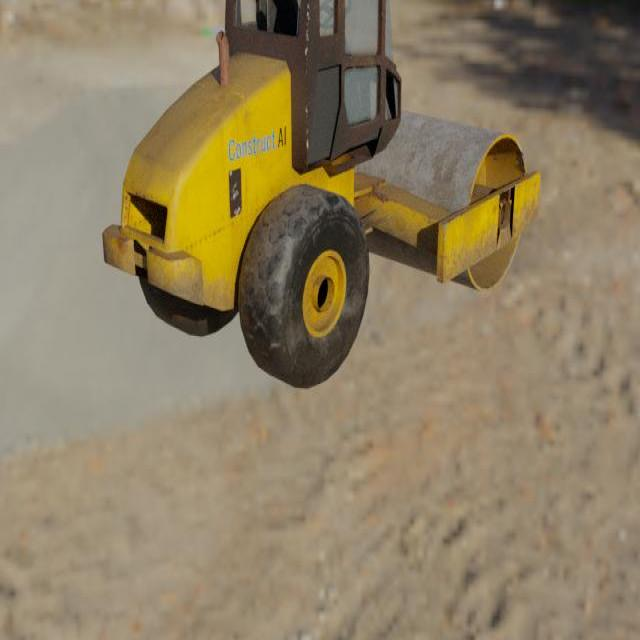Roller: (101, 0, 541, 391)
